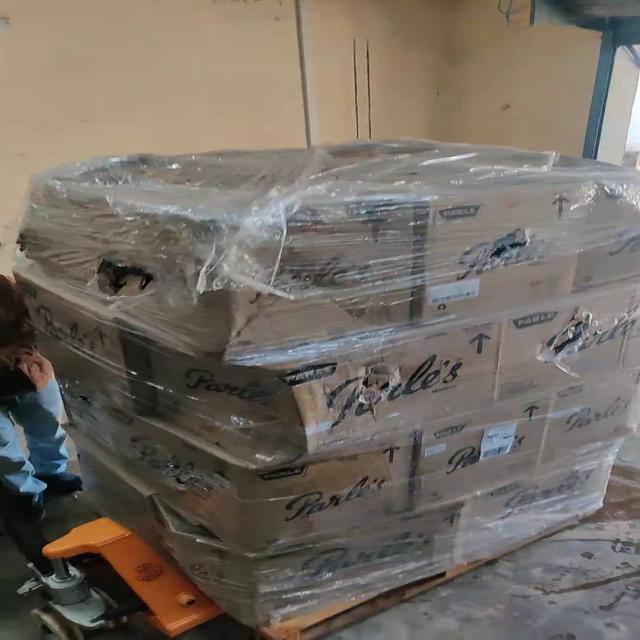leakage: (71, 245, 160, 303)
squeeze: (196, 193, 439, 355)
tear: (142, 483, 240, 553), (510, 298, 607, 367)
